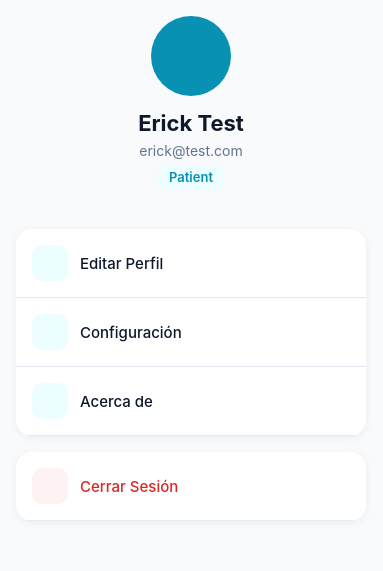
Test case: ProfileScreen › shows logout confirmation and logs out on confirm
The width and height of the screenshot is (383, 571).
What coordinates should you click on to do the following:
click the text "Cerrar Sesión"
I would click on:
 (129, 486)
Its box is [80,476,178,496].
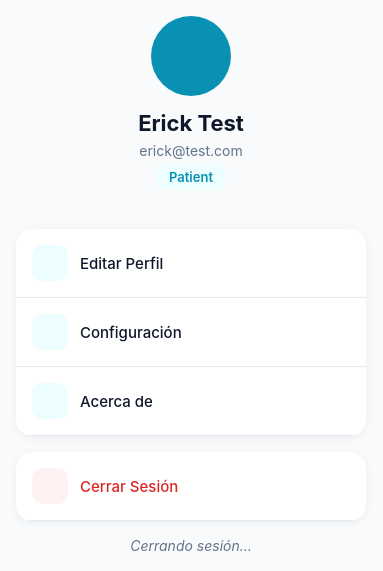
Expected: the text "Cerrando sesión..." is shown, [130,537,252,554]
